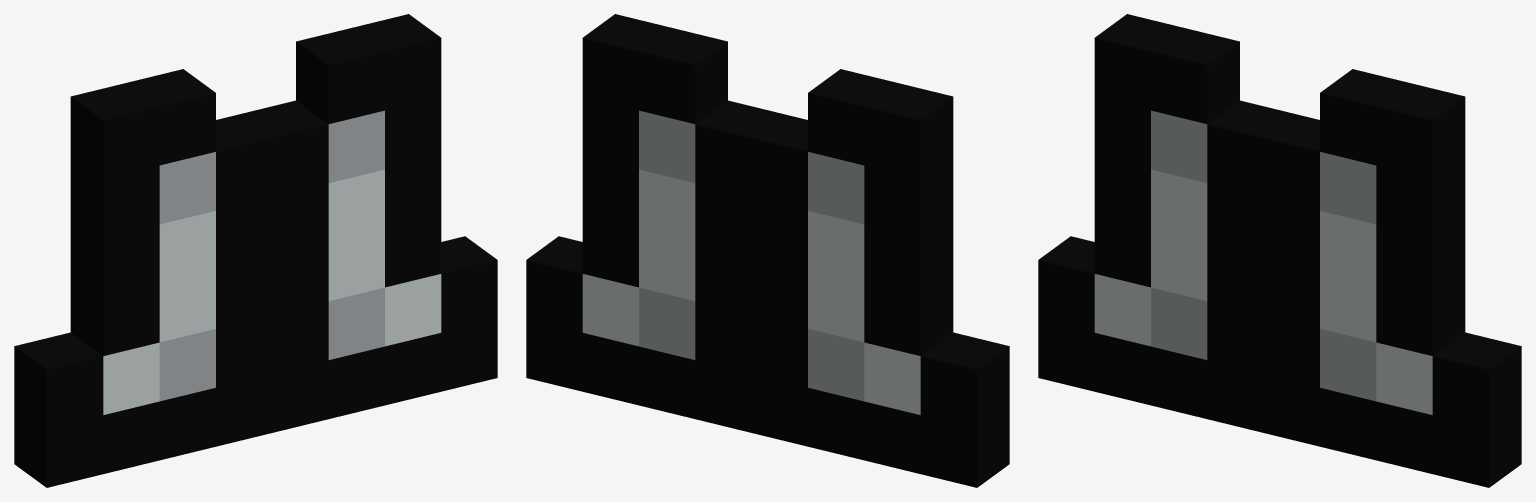
Rendered from Iron Boots.glb.
3 renders of one model, left to right at view 1: azimuth 30°, elevation 25°; view 2: azimuth 150°, elevation 25°; view 3: azimuth 330°, elevation 25°, orthographic.
Parts seen in each view (by area): view 1: generated(Clone); view 2: generated(Clone); view 3: generated(Clone).
Part boxes in pixels (<box>): generated(Clone): <box>14,14,497,487</box>; generated(Clone): <box>526,14,1009,487</box>; generated(Clone): <box>1038,14,1521,487</box>.
Size of the model in its own units: 8 by 6 by 1.
1 material, 1 textured.
